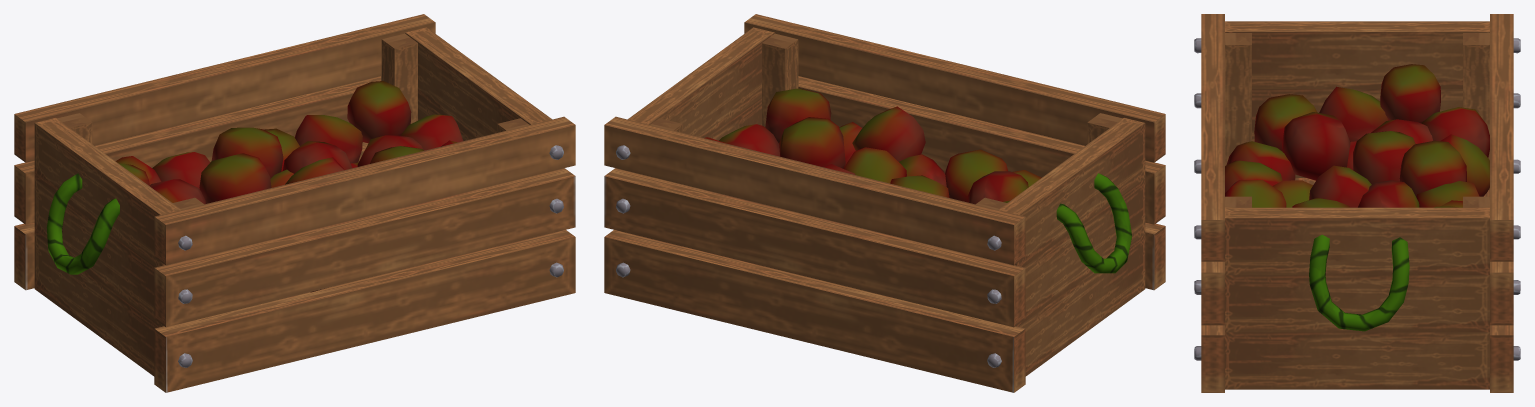
File: FarmCrate_Apple.gltf
3 views of the same model, side by side, from view 1: azimuth 30°, elevation 25°; view 2: azimuth 150°, elevation 25°; view 3: azimuth 270°, elevation 25° (orthographic). The views are drawn at different scales.
Visible parts, largest first — view 1: FarmCrate_Apple; view 2: FarmCrate_Apple; view 3: FarmCrate_Apple.
Boxes of the visible parts, x1=… form: FarmCrate_Apple: x1=14, y1=14, x2=575, y2=392; FarmCrate_Apple: x1=604, y1=14, x2=1165, y2=392; FarmCrate_Apple: x1=1194, y1=14, x2=1520, y2=392.
Bounding box in the file's own units: 0.7138 × 0.2438 × 0.4142.
3 materials, 3 textured.
